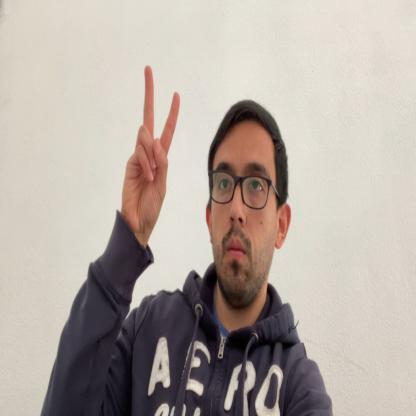V: (122, 64, 180, 236)
